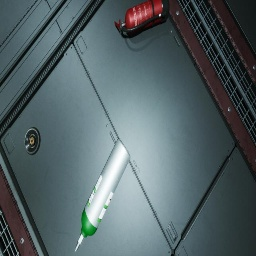0: (75, 139, 131, 251)
FireExtinguisher ]: (114, 0, 170, 35)
